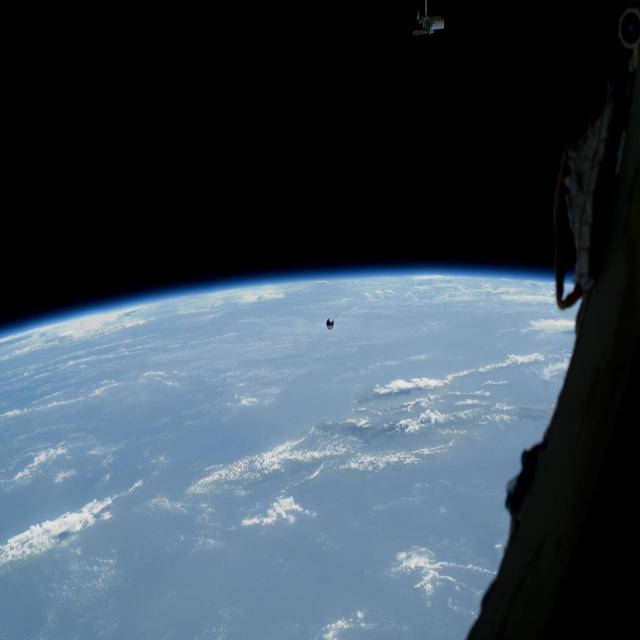medium_debris: (407, 0, 455, 44), (324, 308, 337, 342)
